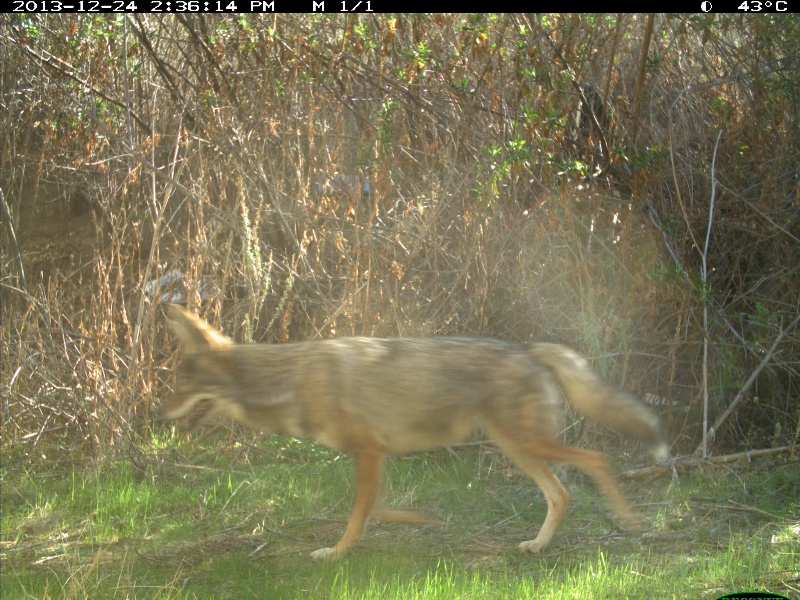coyote: (152, 301, 669, 559)
